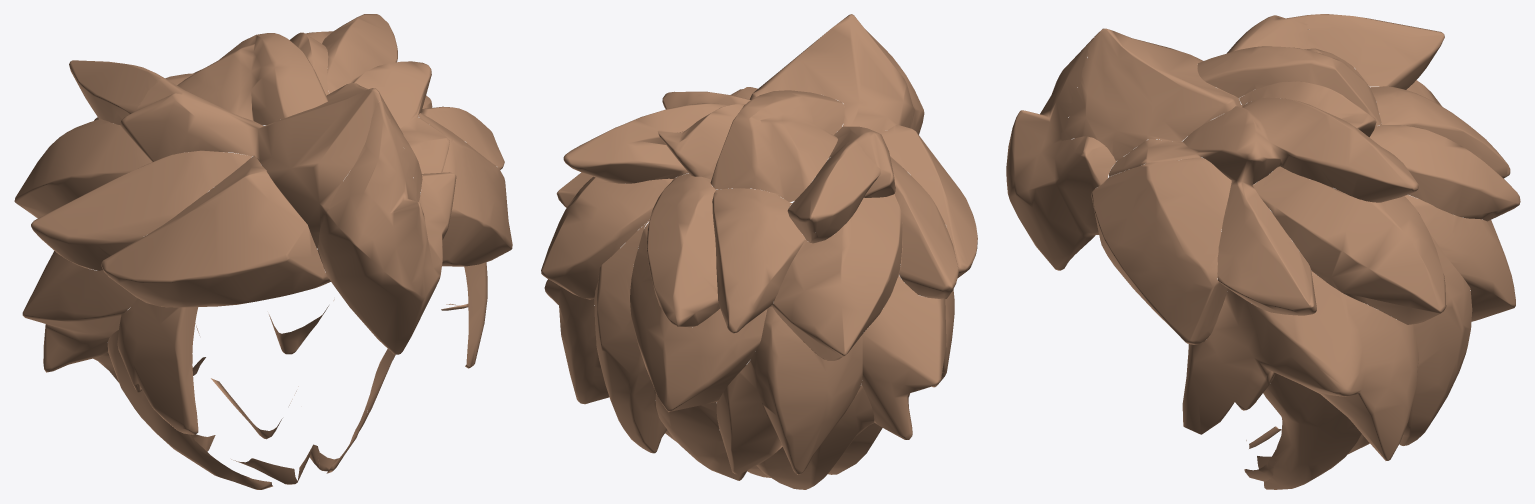
Rendered from hair_00.glb.
3 views of the same model, side by side, from view 1: azimuth 30°, elevation 25°; view 2: azimuth 150°, elevation 25°; view 3: azimuth 270°, elevation 25° (orthographic). The views are drawn at different scales.
Visible parts, largest first — view 1: hair; view 2: hair; view 3: hair.
Boxes of the visible parts, x1=… form: hair: x1=14, y1=14, x2=512, y2=489; hair: x1=541, y1=14, x2=977, y2=489; hair: x1=1006, y1=14, x2=1520, y2=489.
Size of the model in its own units: 0.565 by 0.5445 by 0.5715.
